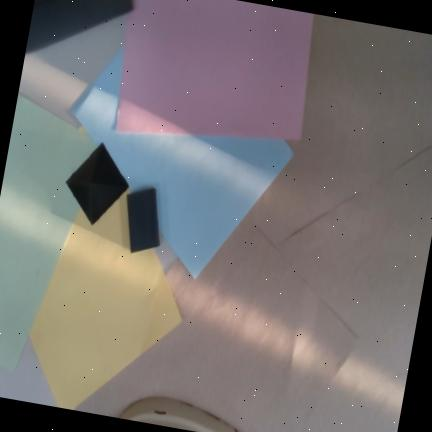Paralelepipedo: (127, 188, 160, 253)
Piramide: (66, 142, 129, 226)
